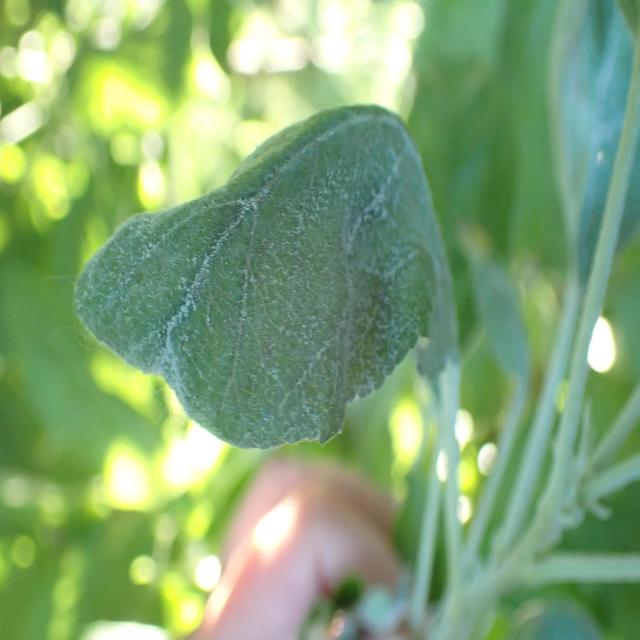Powdery_mildew: (59, 100, 472, 462)
